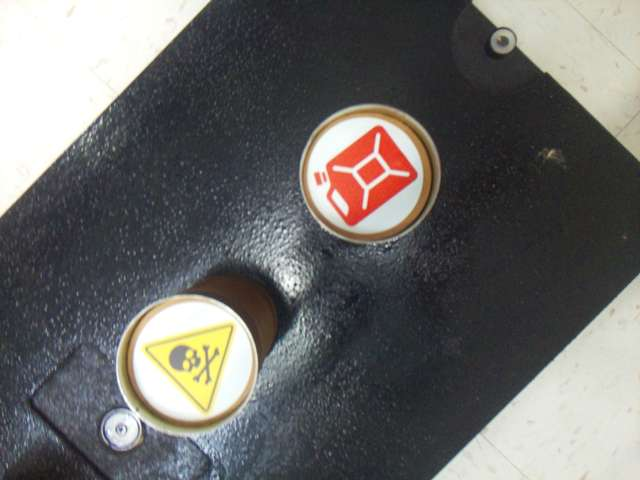gasoline: (303, 117, 423, 235)
toxic_fluid: (133, 302, 253, 422)
